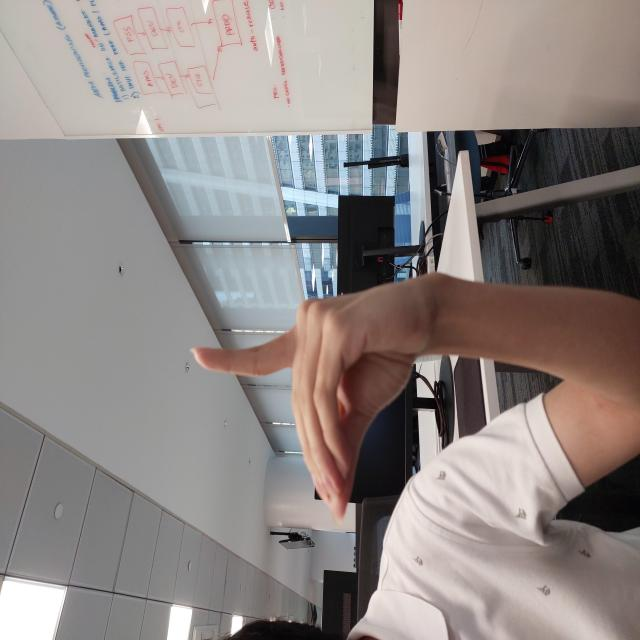D: (119, 189, 365, 435)
